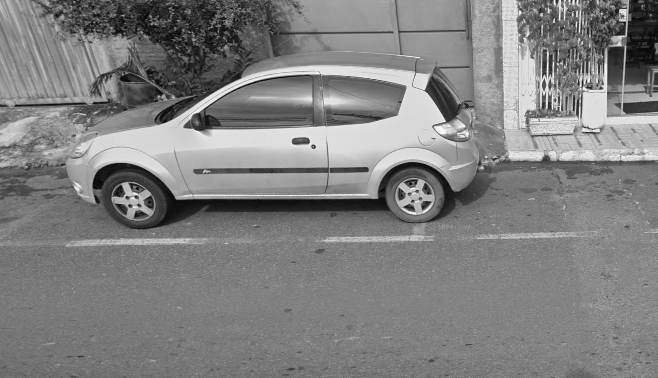car: (57, 49, 504, 236)
